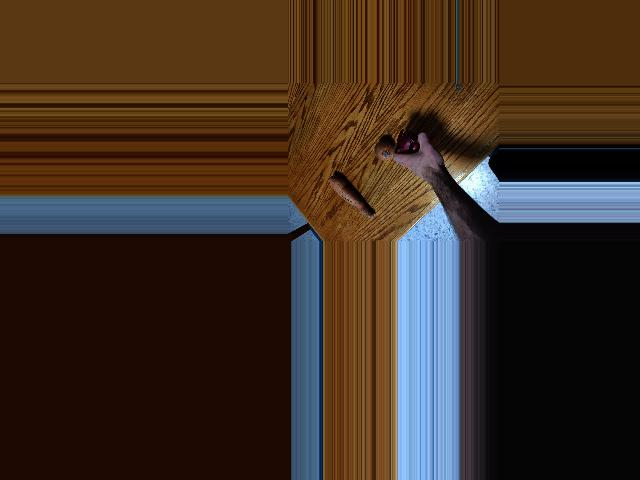onion: (373, 138, 397, 160)
